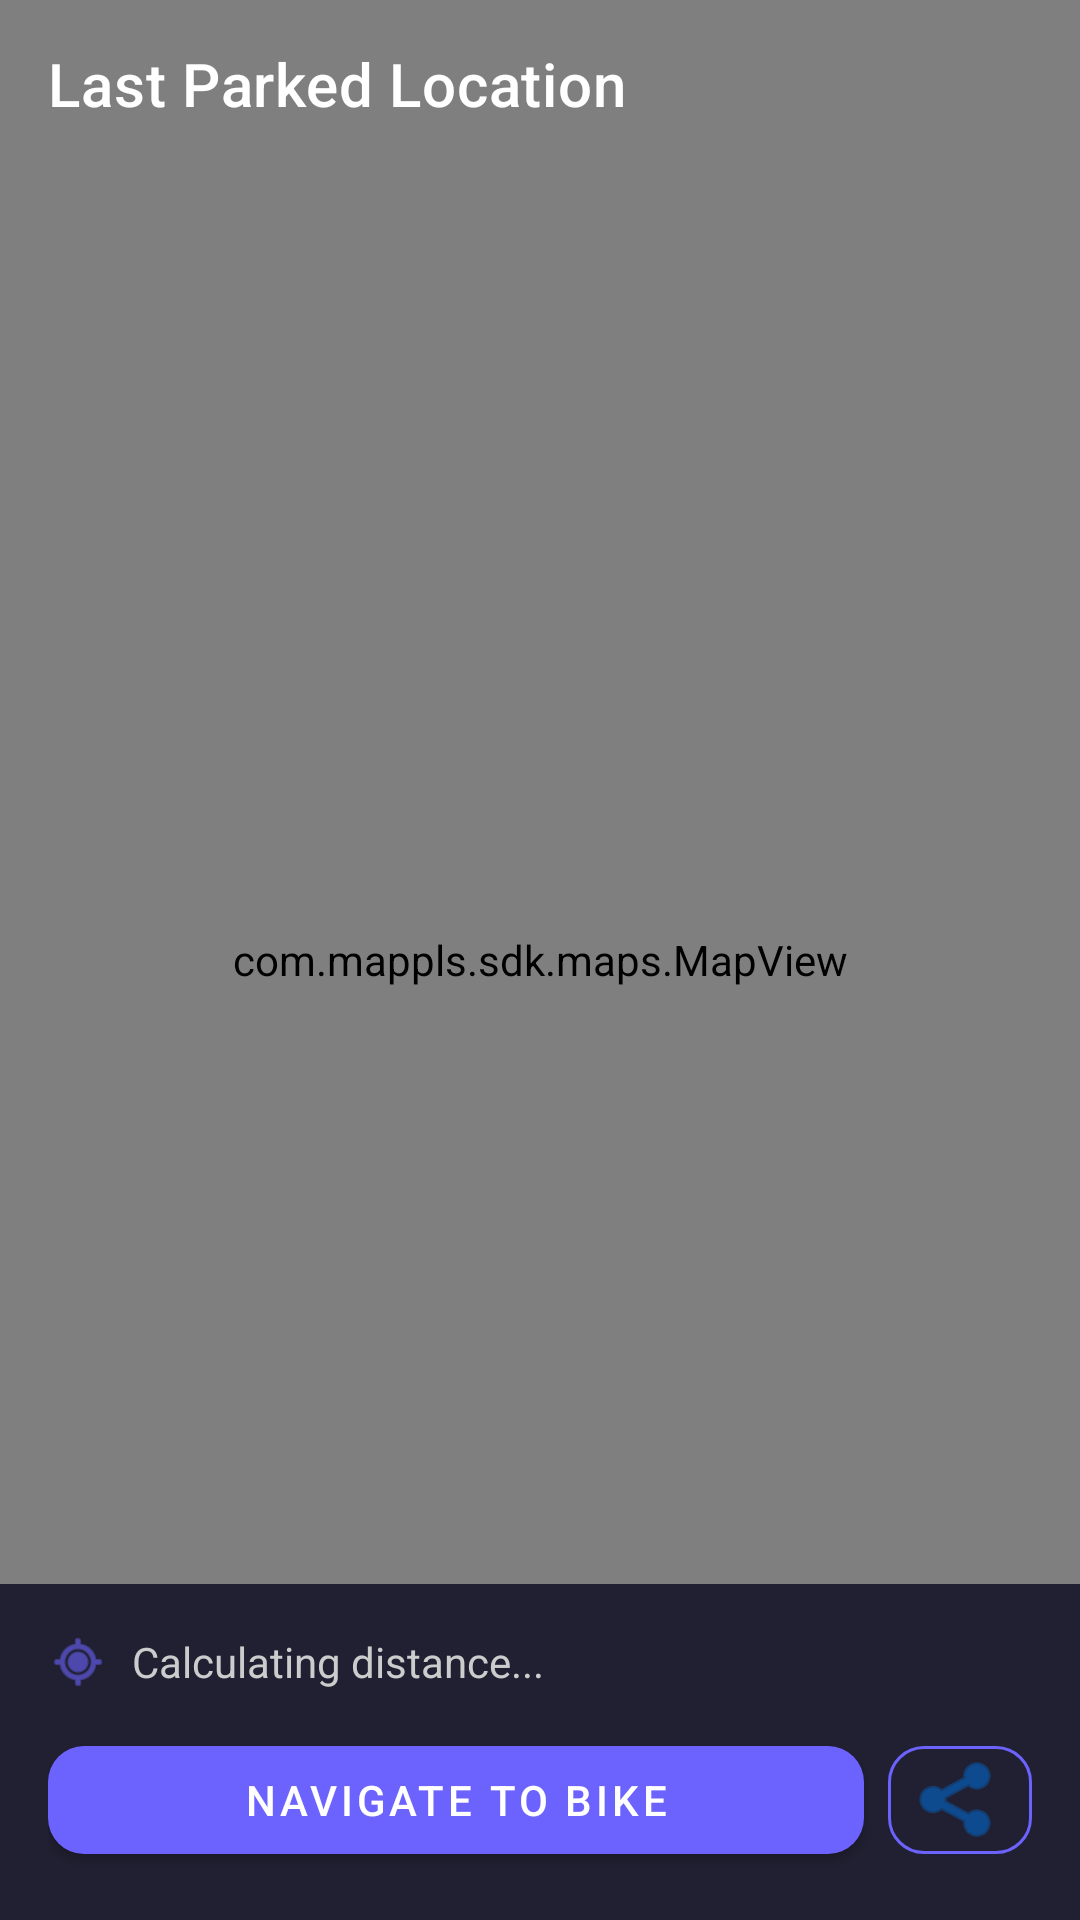

Where to tap for icons on this 1080w x 1920h app screen, as (x,y):
mylocation: (78,1662)
share: (960,1800)
